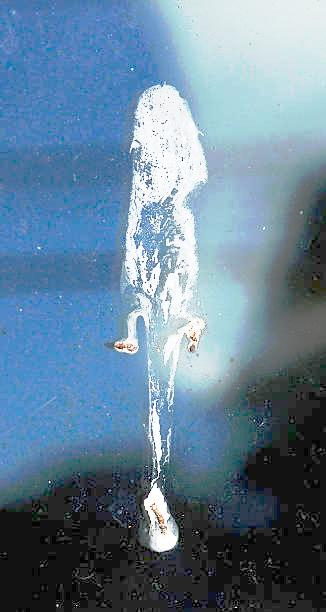Bird Poop: (110, 85, 206, 551)
